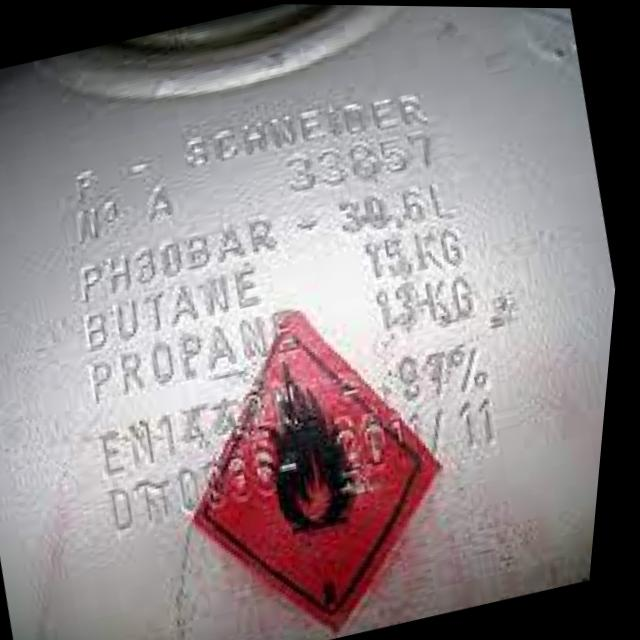ocr: (88, 295, 318, 411), (178, 79, 440, 179), (100, 376, 319, 485), (110, 434, 312, 549), (75, 207, 288, 312), (82, 252, 284, 362), (284, 125, 448, 198), (332, 169, 468, 244), (354, 216, 480, 287), (373, 264, 494, 337), (392, 330, 504, 405), (75, 181, 183, 253), (71, 157, 108, 210), (124, 151, 165, 183)
